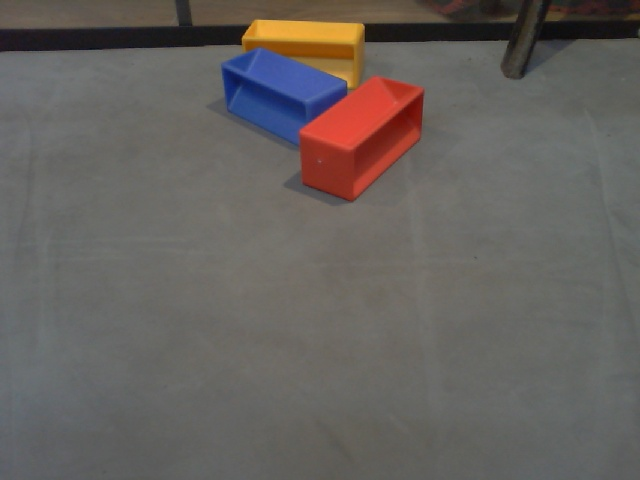BlueSample: (218, 45, 349, 147)
RedSample: (297, 74, 425, 204)
YellowSample: (236, 16, 371, 90)
